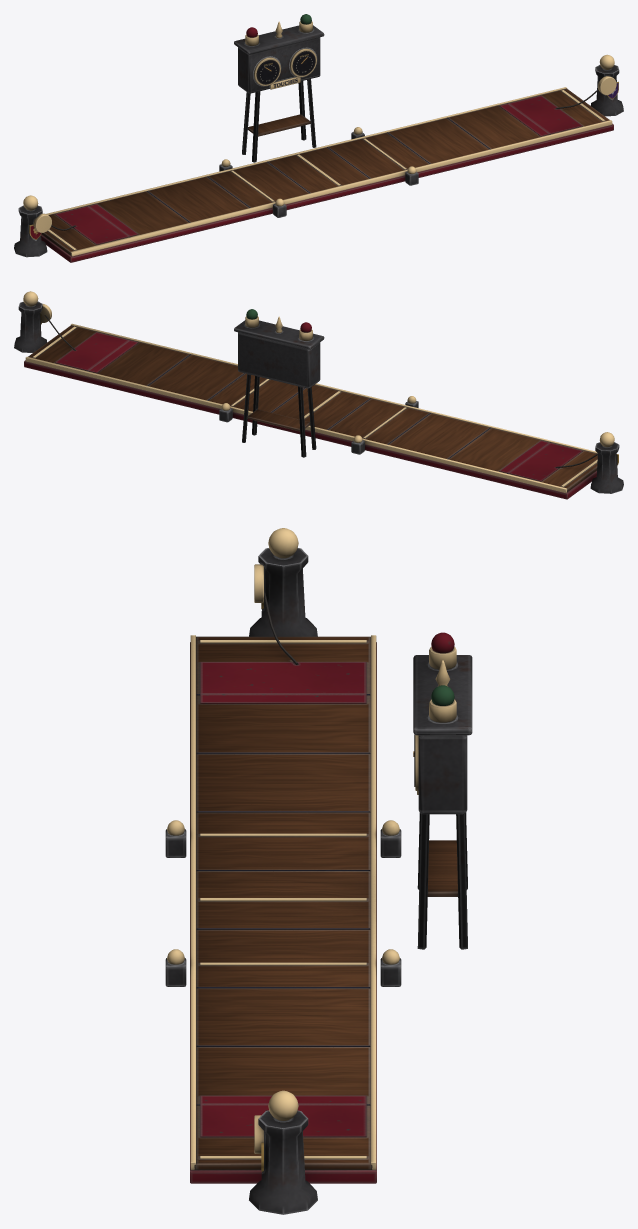
Rendered from FencingPiste.fbx.
3 views of the same model, one above another, from view 1: azimuth 30°, elevation 25°; view 2: azimuth 150°, elevation 25°; view 3: azimuth 270°, elevation 25° (orthographic). The views are drawn at different scales.
Visible parts, largest first — view 1: FencingPiste; view 2: FencingPiste; view 3: FencingPiste.
Boxes of the visible parts, bbox=[...] form: FencingPiste: bbox=[14, 14, 623, 262]; FencingPiste: bbox=[14, 291, 623, 499]; FencingPiste: bbox=[165, 528, 472, 1214].
Size of the model in its own units: 2020 by 413 by 443.
